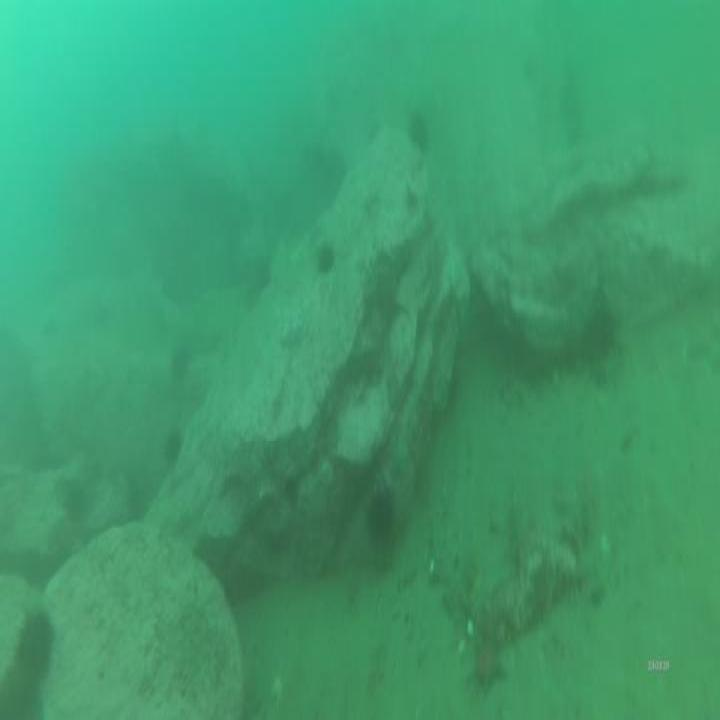echinus: (12, 617, 54, 672), (2, 675, 37, 720), (584, 310, 614, 356), (367, 492, 391, 546), (163, 428, 182, 459), (406, 110, 424, 142), (315, 244, 333, 268)
